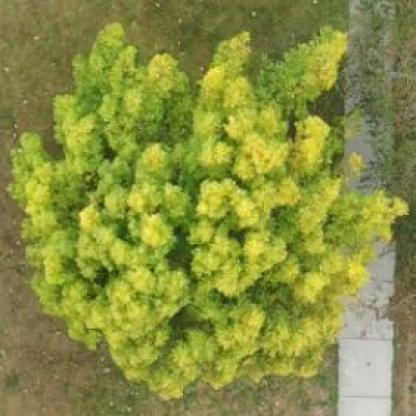Deciduous Tree: (10, 34, 400, 396)
